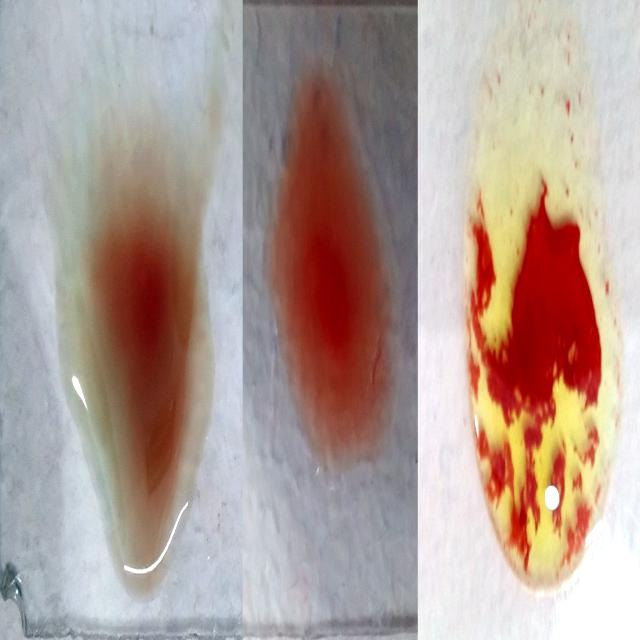B: (467, 9, 618, 595)
